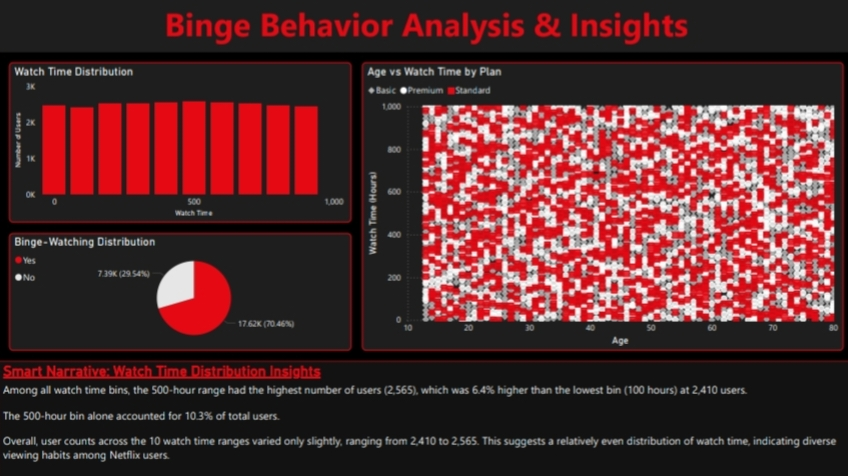

The dashboard page shown, as its layout file describes it:
{"tool":"powerbi","page":{"name":"Page 3","canvas":[1280,720],"ordinal":3},"visuals":[{"type":"clusteredColumnChart","title":"Watch Time Distribution","fields":{"Category":["netflix_users.Watch Time Bins"],"Y":["CountNonNull(netflix_users.User_ID)"]},"box":[16,96,512,240],"z":0},{"type":"textbox","box":[0,0,1280,80],"z":1000},{"type":"pieChart","title":"Binge-Watching Distribution","fields":{"Category":["netflix_users.Binge_Watcher"],"Y":["CountNonNull(netflix_users.User_ID)"]},"box":[16,352,512,176],"z":2000},{"type":"scatterChart","title":"Age vs Watch Time by Plan","fields":{"Y":["netflix_users.Watch_Time_Hours"],"Series":["netflix_users.Subscription_Type"],"X":["netflix_users.Age"]},"box":[544,96,720,432],"z":3000},{"type":"textbox","title":"Smart Narrative: Watch Time Distribution Insights","box":[0,544,1280,176],"z":4000}]}

Visuals, with their boxes in screenshot pixels (x1, y1, x2, y2), scaled from the page's 1280x720 canvas onto the 848x476 screenshot:
"Watch Time Distribution" clusteredColumnChart: 11,63,350,222
textbox: 0,0,847,53
"Binge-Watching Distribution" pieChart: 11,233,350,349
"Age vs Watch Time by Plan" scatterChart: 360,63,837,349
"Smart Narrative: Watch Time Distribution Insights" textbox: 0,360,847,475
